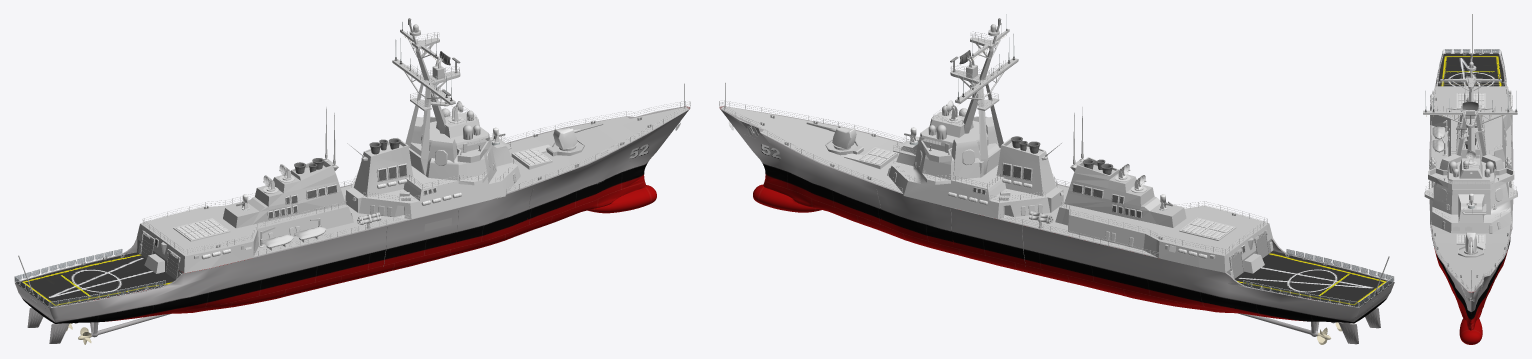
The model's file is Burke-Class-DDG-52-USS-Barry-v04_optimized.glb.
The picture shows the model from 3 angles, left to right: view 1: azimuth 30°, elevation 25°; view 2: azimuth 150°, elevation 25°; view 3: azimuth 270°, elevation 25°; orthographic projection. The views are drawn at different scales.
Visible parts, largest first — view 1: Section_part14, Section_hull, Section_deck3, Section_deck0, Section_deck1, Section_gun0, Section_part12, Section_part13, Section_part7, Section_propeller1, Section_rudder; view 2: Section_part14, Section_hull, Section_deck3, Section_deck0, Section_deck1, Section_gun0, Section_part12, Section_part13, Section_propeller0, Section_part7, Section_rudder; view 3: Section_part14, Section_deck3, Section_hull, Section_deck0, Section_gun0, Section_part12, Section_deck1, Section_part13, Section_lifeBoat0, Section_lifeBoat1, Section_communication0, Section_communication3.
Part boxes in pixels (x1,y1,x2,y2): Section_part14: (14, 18, 690, 307); Section_hull: (14, 106, 690, 323); Section_deck3: (254, 107, 688, 256); Section_deck0: (15, 265, 119, 307); Section_deck1: (80, 252, 175, 294); Section_gun0: (546, 123, 603, 156); Section_part12: (173, 218, 230, 241); Section_part13: (511, 144, 552, 169); Section_part7: (294, 138, 400, 173); Section_propeller1: (78, 313, 171, 344); Section_rudder: (27, 307, 69, 343); Section_part14: (719, 14, 1394, 307); Section_hull: (719, 106, 1394, 323); Section_deck3: (721, 106, 1155, 256); Section_deck0: (1290, 265, 1393, 307); Section_deck1: (1234, 251, 1329, 294); Section_gun0: (806, 122, 863, 155); Section_part12: (1179, 217, 1236, 240); Section_part13: (844, 147, 897, 169); Section_propeller0: (1238, 313, 1330, 344); Section_part7: (1011, 136, 1113, 174); Section_rudder: (1338, 308, 1380, 344); Section_part14: (1423, 14, 1517, 292); Section_deck3: (1431, 125, 1511, 291); Section_hull: (1429, 53, 1513, 344); Section_deck0: (1438, 53, 1504, 81); Section_gun0: (1458, 232, 1483, 257); Section_part12: (1456, 93, 1485, 109); Section_deck1: (1438, 82, 1504, 86); Section_part13: (1456, 234, 1485, 249); Section_lifeBoat0: (1432, 126, 1445, 139); Section_lifeBoat1: (1432, 139, 1445, 152); Section_communication0: (1462, 101, 1478, 110); Section_communication3: (1466, 150, 1477, 166).
Bounding box in the file's own units: 157 × 54.26 × 23.55.
Materials: 22 (22 with a texture image).
